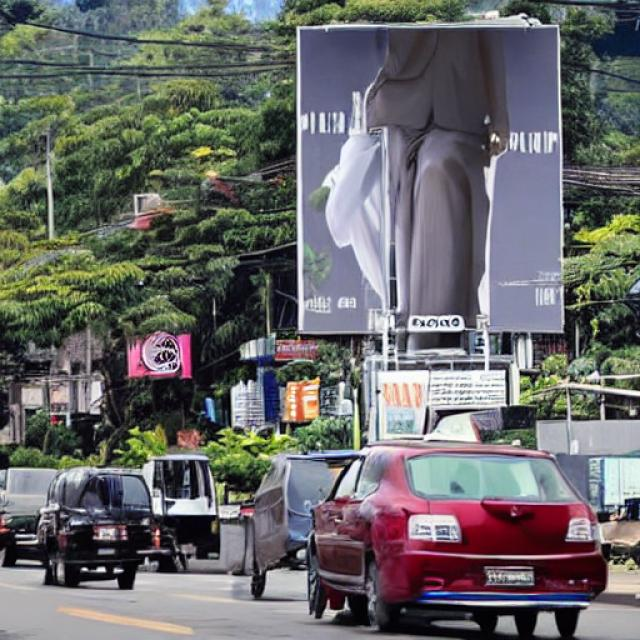Billboard: (294, 25, 570, 338)
